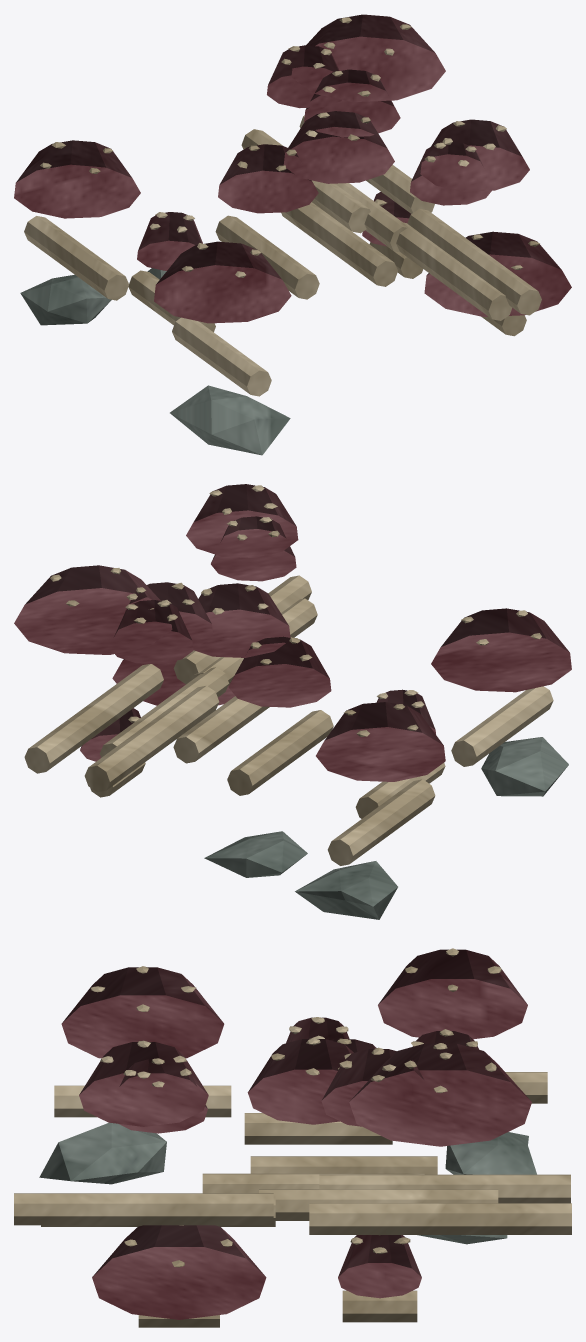
File: 0208_mushroom_patch_08.glb
The picture shows the model from 3 angles, top to bottom: view 1: azimuth 30°, elevation 25°; view 2: azimuth 150°, elevation 25°; view 3: azimuth 270°, elevation 25°; orthographic projection. The views are drawn at different scales.
Parts seen in each view (by area): view 1: cloth, bone, stone; view 2: cloth, bone, stone; view 3: cloth, bone, stone.
Boxes of the visible parts, left/top/right/bottom form: cloth: left=14, top=14, right=571, bottom=323; bone: left=24, top=17, right=541, bottom=396; stone: left=20, top=268, right=290, bottom=455; cloth: left=14, top=484, right=571, bottom=781; bone: left=24, top=485, right=553, bottom=865; stone: left=204, top=737, right=568, bottom=919; cloth: left=61, top=949, right=531, bottom=1319; bone: left=14, top=948, right=571, bottom=1327; stone: left=39, top=1122, right=536, bottom=1244.
Bounding box in the file's own units: 2.04 × 1.12 × 1.98.
Materials: 3 (3 with a texture image).
